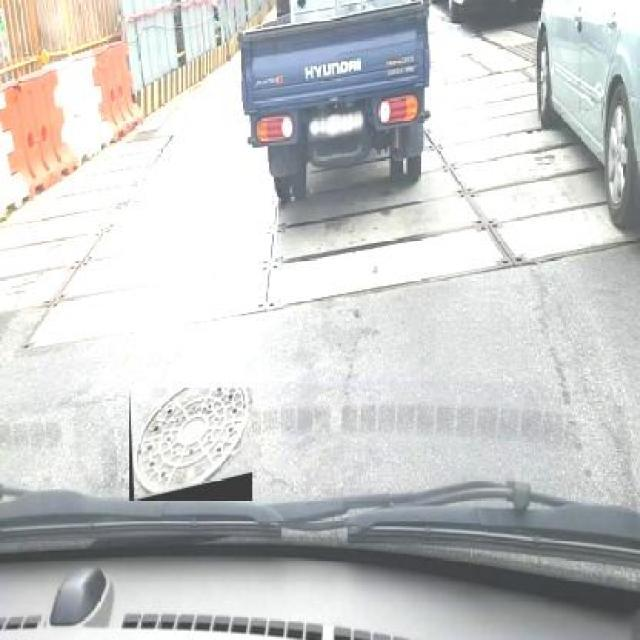Manhole: (129, 388, 252, 500)
